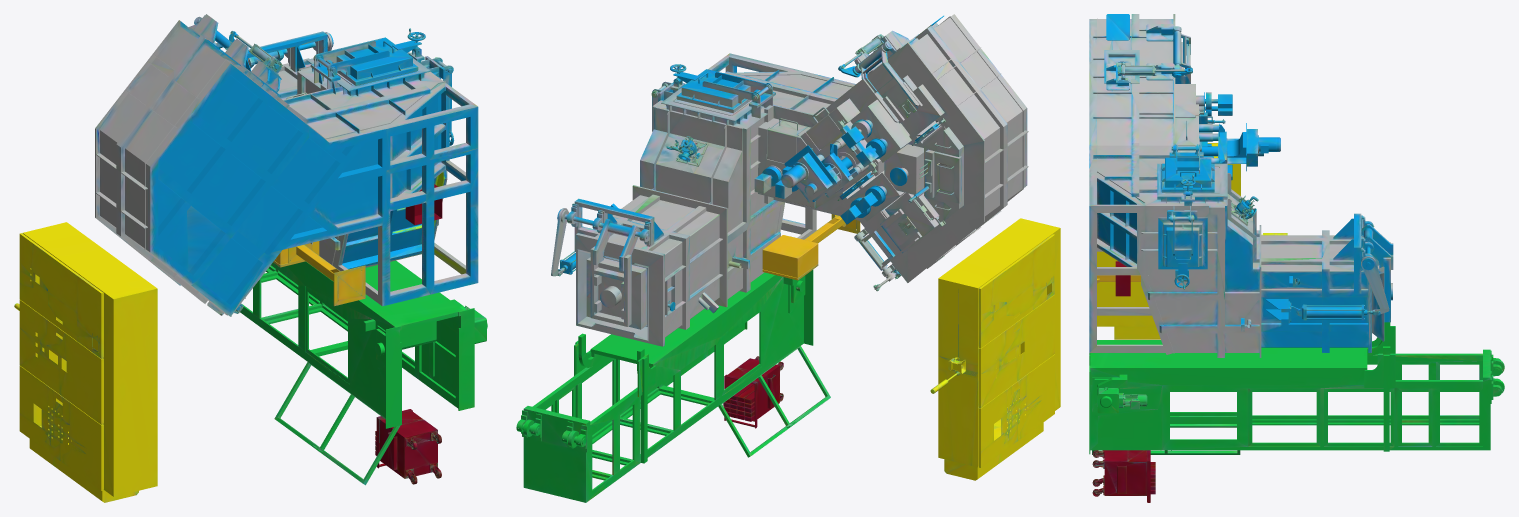
Rendered from MF_HYBRID.glb.
The picture shows the model from 3 angles, left to right: view 1: azimuth 30°, elevation 25°; view 2: azimuth 150°, elevation 25°; view 3: azimuth 270°, elevation 25°; orthographic projection. The views are drawn at different scales.
Parts seen in each view (by area): view 1: node_id3; view 2: node_id3; view 3: node_id3.
Part boxes in pixels (x1=…): node_id3: x1=14, y1=14, x2=487, y2=502; node_id3: x1=516, y1=14, x2=1060, y2=502; node_id3: x1=1089, y1=14, x2=1504, y2=502.
Bounding box in the file's own units: 0.4459 × 0.512 × 0.4799.
1 material, 1 textured.
